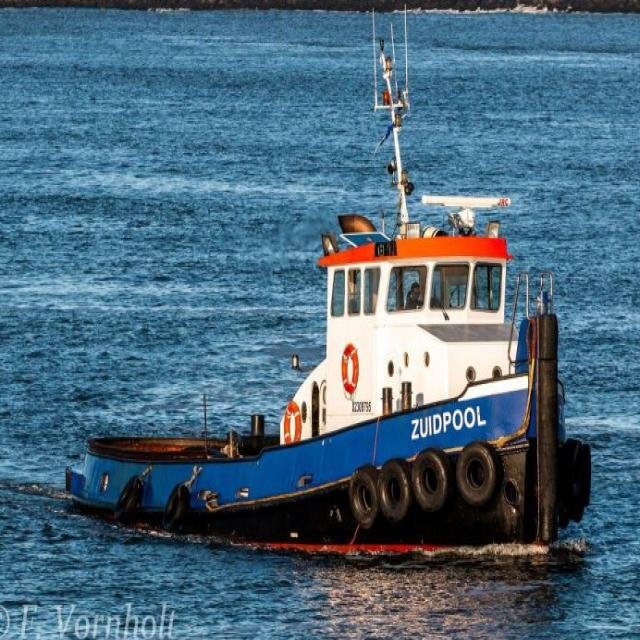tugboat: (63, 183, 597, 570)
